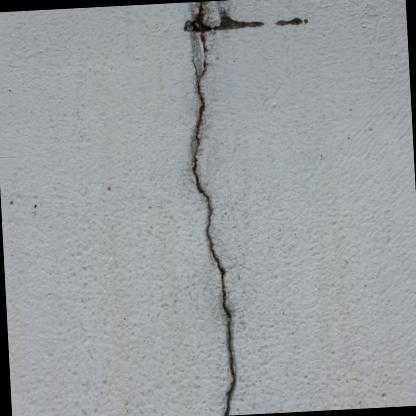crack: (190, 36, 235, 413)
